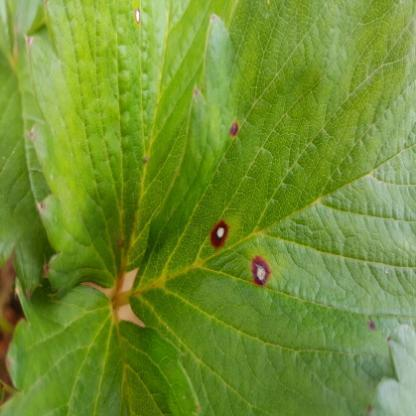Strawberry_Leaf_Spot: (128, 0, 415, 415), (25, 0, 238, 301)
